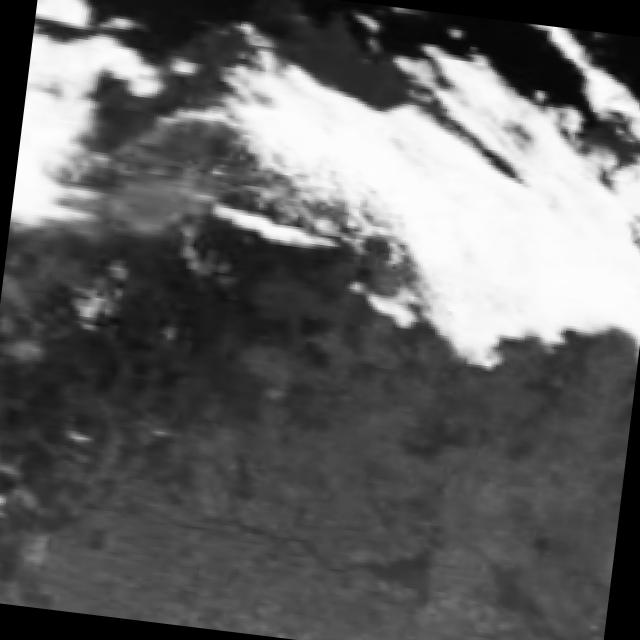CB: (422, 153, 638, 316)
